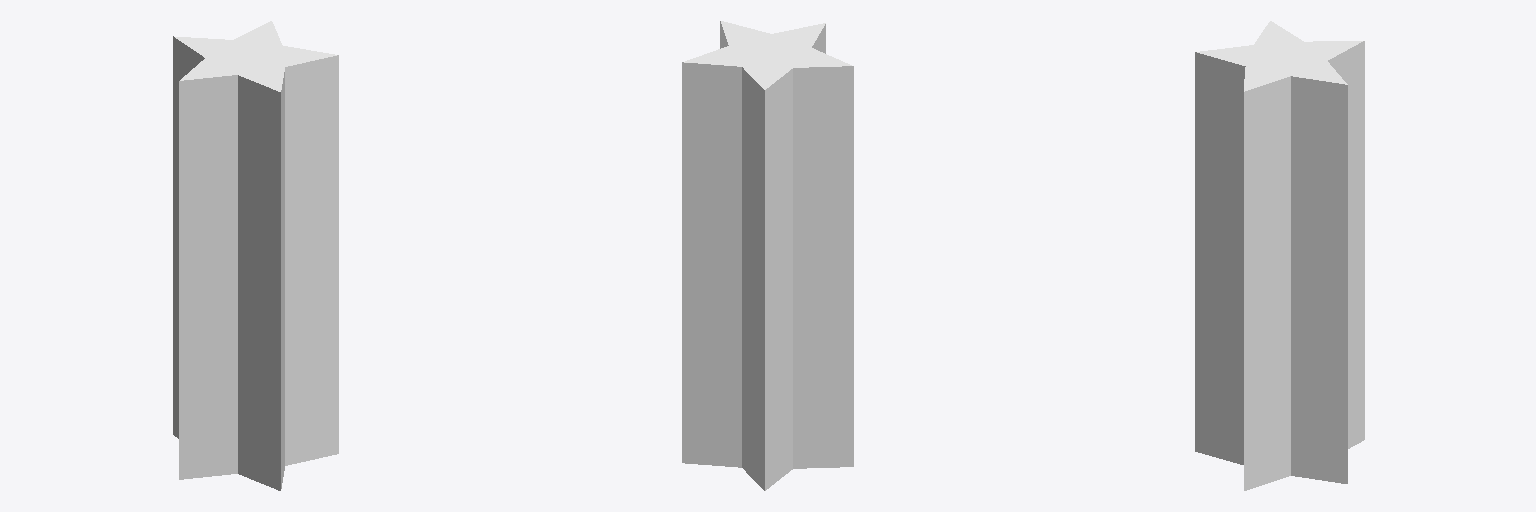
robot.urdf — Star_cube_cap:
<?xml version="1.0" ?>
<robot name="Star_cube_cap">
  <link name="baseLink">
    <contact>
    	<friction_anchor/>
    	   <lateral_friction value="1.0"/>
    </contact>
    <inertial>
      <origin rpy="0 0 0" xyz="0 0 0"/>
       <!-- mass controls penetration -->
       <inertia ixx="1e-4" ixy="0" ixz="0" iyy="1e-4" iyz="0" izz="1e-4"/>
    </inertial>
    <visual>
      <origin rpy="0 0 0" xyz="0 0 0"/>
      <geometry>
        <mesh filename="Star_cube_cap.obj" scale="0.6 0.6 0.6"/>
      </geometry>
       <material name="white">
        <color rgba="1 1 1 1"/>
      </material>
    </visual>
    <collision>
      <origin rpy="0 0 0" xyz="0 0 0"/>
      <geometry>
        <mesh filename="Star_cube_cap.obj" scale="0.6 0.6 0.6"/>
      </geometry>
      <sdf resolution="300"/>
    </collision>
  </link>
</robot>

--- Facts derived from the render (not from the file) ---
3 views of the same robot in one strip: view 1: azimuth 30°, elevation 25°; view 2: azimuth 150°, elevation 25°; view 3: azimuth 270°, elevation 25° (orthographic).
Model Star_cube_cap with 1 links and 0 joints (none), rooted at baseLink, posed every joint at zero.
Links seen in each view (by area): view 1: baseLink; view 2: baseLink; view 3: baseLink.
Boxes of the visible links, x1,y1,x2,y2 form: baseLink: [173, 21, 338, 490]; baseLink: [682, 21, 853, 490]; baseLink: [1195, 21, 1364, 490].
Bounding box of the posed robot: 0.023 × 0.023 × 0.06 m (x, y, z).
Meshes: 1 distinct files referenced, 1 mesh visuals loaded (1 OBJ).